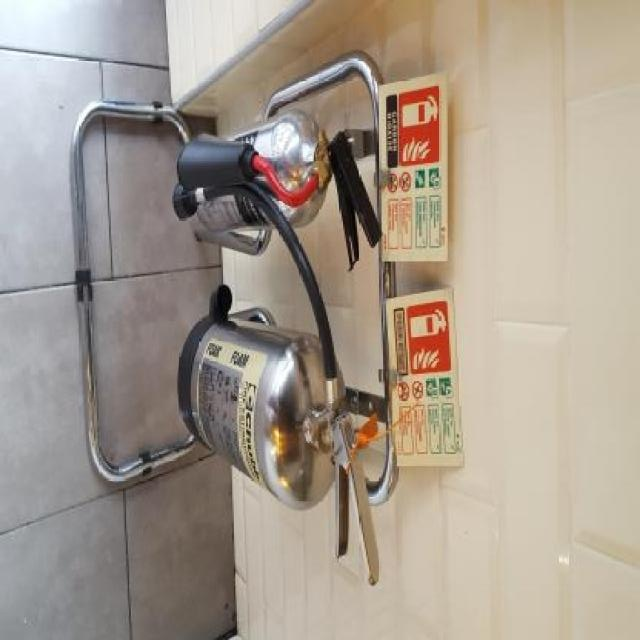fire extinguisher: (190, 318, 382, 585), (172, 105, 383, 273)
